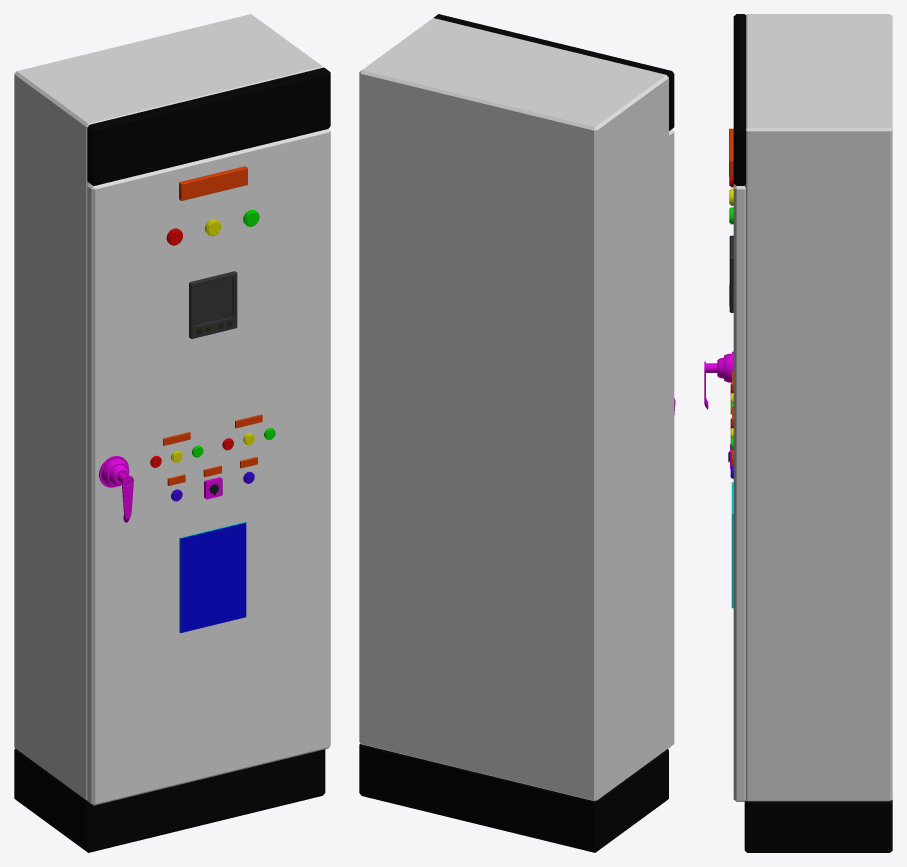
The model's file is FBX_Distribution_board.fbx.
The picture shows the model from 3 angles, left to right: view 1: azimuth 30°, elevation 25°; view 2: azimuth 150°, elevation 25°; view 3: azimuth 270°, elevation 25°; orthographic projection.
Visible parts, largest first — view 1: FBX_Distribution_board; view 2: FBX_Distribution_board; view 3: FBX_Distribution_board.
Part boxes in pixels (x1,y1,x2,y2): FBX_Distribution_board: (14, 14, 330, 852); FBX_Distribution_board: (359, 14, 675, 852); FBX_Distribution_board: (704, 14, 892, 852).
Bounding box in the file's own units: 32.56 × 94.84 × 22.31.
